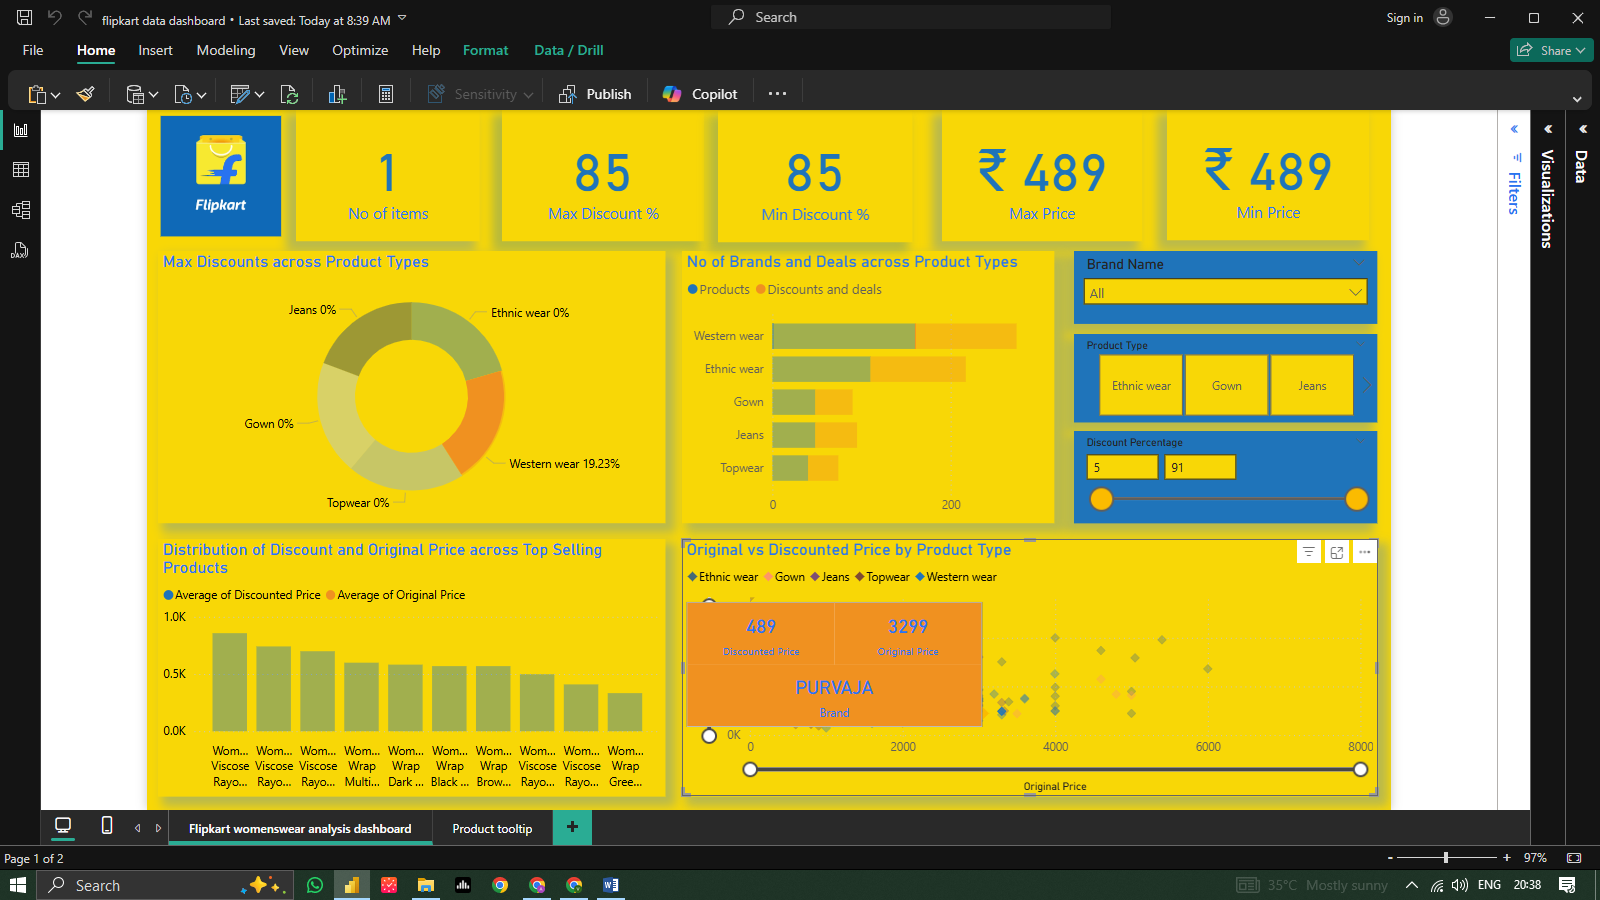

The dashboard page shown, as its layout file describes it:
{"tool":"powerbi","page":{"name":"Flipkart womenswear analysis dashboard","canvas":[1280,720],"ordinal":0},"visuals":[{"type":"card","fields":{"Values":["CountNonNull(Dresses.Brand Name)"]},"box":[152.9,0,188.9,134.9],"z":0},{"type":"card","fields":{"Values":["Dresses.Max Discount %"]},"box":[365,0,208.2,134.9],"z":1000},{"type":"card","fields":{"Values":["Dresses.Max Price"]},"box":[817.3,0,205.6,134.9],"z":2000},{"type":"card","fields":{"Values":["Dresses.Min Price"]},"box":[1048.7,0,208.2,133.7],"z":3000},{"type":"image","box":[0,1.3,152.9,133.7],"z":4000},{"type":"donutChart","title":"Max Discounts across Product Types","fields":{"Category":["Dresses.Product Type"],"Y":["Dresses.Max Discount %"]},"box":[11.6,145.2,521.8,280.2],"z":5000},{"type":"lineClusteredColumnComboChart","title":"Distribution of Discount and Original Price across Top Selling Products","fields":{"Category":["Dresses.Product Name"],"Y2":["Avg(Dresses.Original Price)"],"Y":["Avg(Dresses.Discounter Price)"]},"box":[11.6,440.8,521.8,264.7],"z":6000},{"type":"slicer","fields":{"Values":["Dresses.Brand Name"]},"box":[953.6,145.2,312.3,74.5],"z":7000},{"type":"slicer","fields":{"Values":["Dresses.Product Type"]},"box":[953.6,230,312.3,91.2],"z":8000},{"type":"slicer","fields":{"Values":["Dresses.Discount Percentage"]},"box":[953.6,330.3,312.3,95.1],"z":9000},{"type":"barChart","title":"No of Brands and Deals across Product Types","fields":{"Category":["Dresses.Product Type"],"Y":["CountNonNull(Dresses.Product Name)","CountNonNull(Dresses.Discounts and deals)"]},"box":[550,145.2,383,280.2],"z":10000},{"type":"card","fields":{"Values":["Min(Dresses.Discount Percentage)"]},"box":[587.3,1.3,200.5,134.9],"z":11000},{"type":"scatterChart","title":"Original vs Discounted Price by Product Type","fields":{"X":["Dresses.Original Price"],"Y":["Dresses.Discounter Price"],"Series":["Dresses.Product Type"]},"box":[550,440.8,715.8,264.7],"z":12000}]}

Visuals, with their boxes on the page's 1280x720 design canvas (x1, y1, x2, y2). These are canvas units, not pixel positions in the 1600x900 screenshot, which may show the page scaled, cropped or inside an application window:
card - CountNonNull(Dresses.Brand Name): region(153, 0, 342, 135)
card - Dresses.Max Discount %: region(365, 0, 573, 135)
card - Dresses.Max Price: region(817, 0, 1023, 135)
card - Dresses.Min Price: region(1049, 0, 1257, 134)
image: region(0, 1, 153, 135)
"Max Discounts across Product Types" donutChart: region(12, 145, 533, 425)
"Distribution of Discount and Original Price across Top Selling Products" lineClusteredColumnComboChart: region(12, 441, 533, 706)
slicer - Dresses.Brand Name: region(954, 145, 1266, 220)
slicer - Dresses.Product Type: region(954, 230, 1266, 321)
slicer - Dresses.Discount Percentage: region(954, 330, 1266, 425)
"No of Brands and Deals across Product Types" barChart: region(550, 145, 933, 425)
card - Min(Dresses.Discount Percentage): region(587, 1, 788, 136)
"Original vs Discounted Price by Product Type" scatterChart: region(550, 441, 1266, 706)
